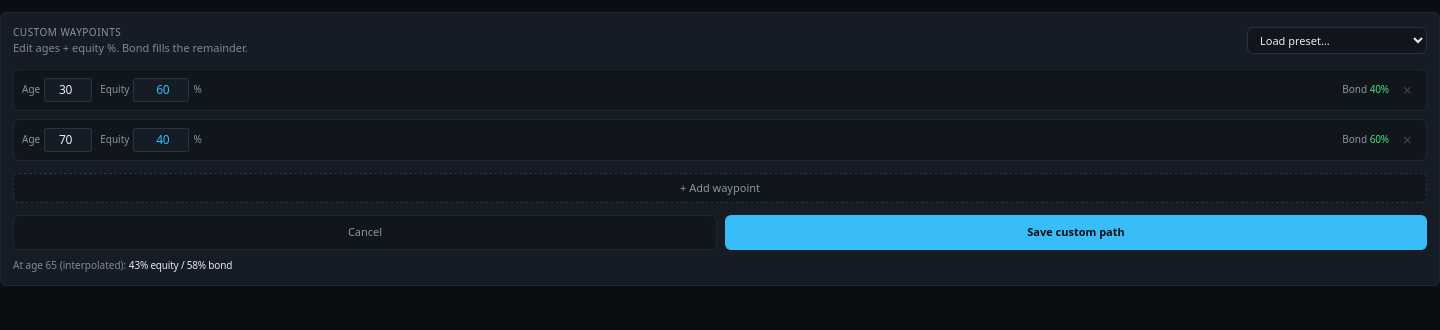
Test case: WaypointEditor — validation hints › surfaces an age-out-of-range warning at age < 18
Replace the text in the number field labelled "Age" in the row of "40" with "10" at (68, 90), box [44,78,92,102]
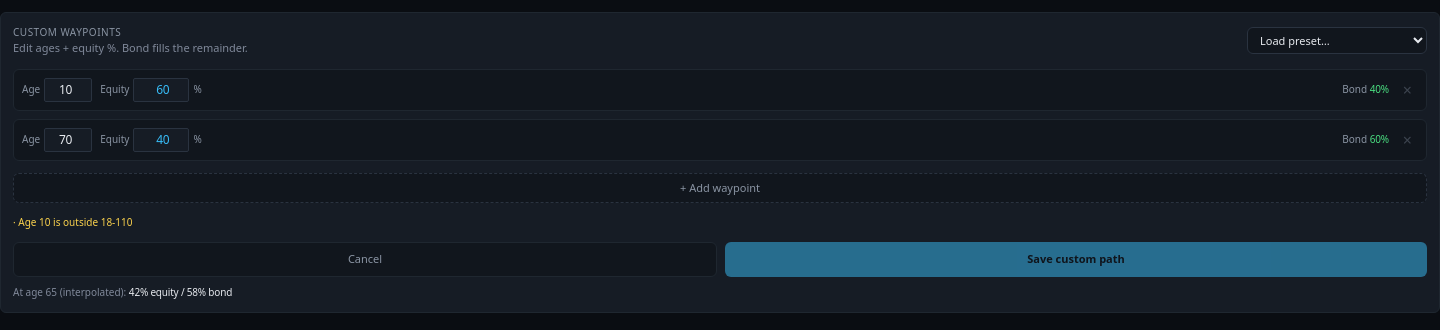
Expected: the list item "· Age 10 is outside 18-110" is shown, [13,215,132,229]
